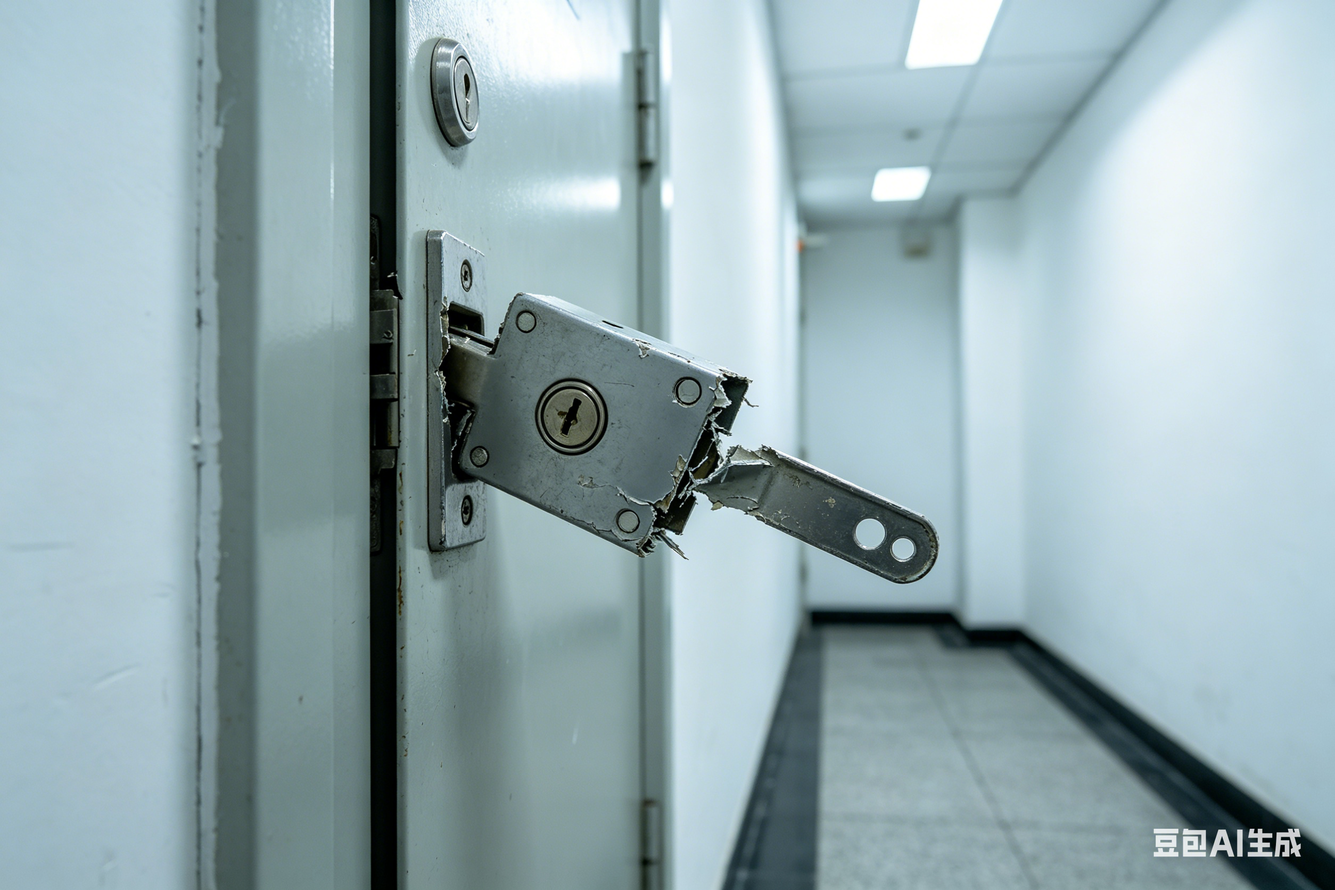BadLock: (426, 231, 524, 548), (644, 347, 755, 560)
